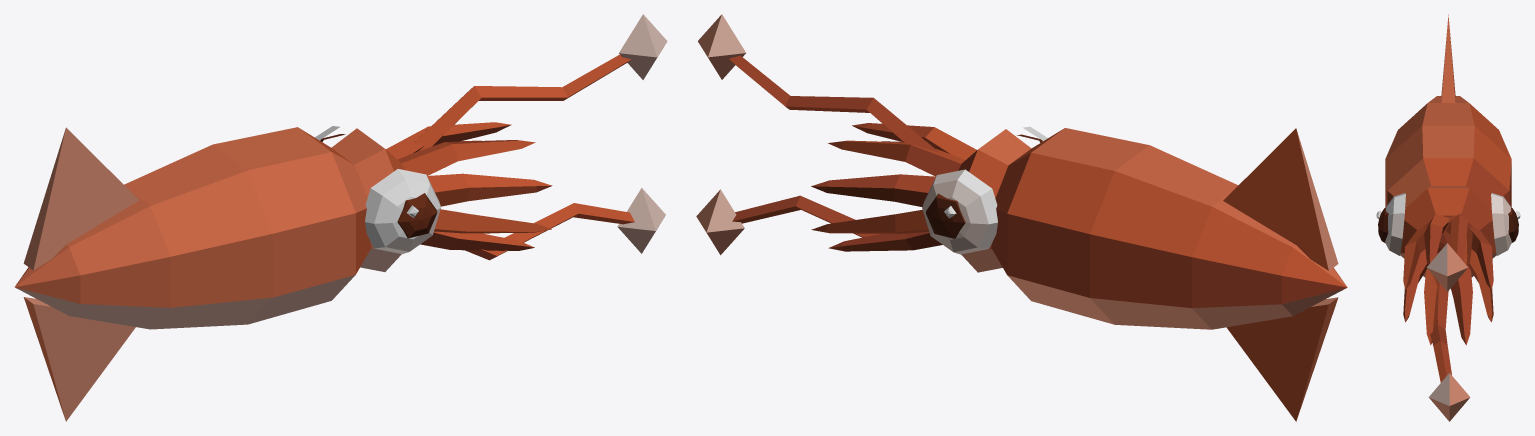
File: giant-squid.glb
3 views of the same model, side by side, from view 1: azimuth 30°, elevation 25°; view 2: azimuth 150°, elevation 25°; view 3: azimuth 270°, elevation 25° (orthographic). The views are drawn at different scales.
Visible parts, largest first — view 1: giant-squid; view 2: giant-squid; view 3: giant-squid.
Part boxes in pixels (x1=…): giant-squid: x1=14, y1=14, x2=667, y2=421; giant-squid: x1=696, y1=14, x2=1347, y2=421; giant-squid: x1=1376, y1=14, x2=1520, y2=421.
Bounding box in the file's own units: 6.95 × 3 × 1.79.
